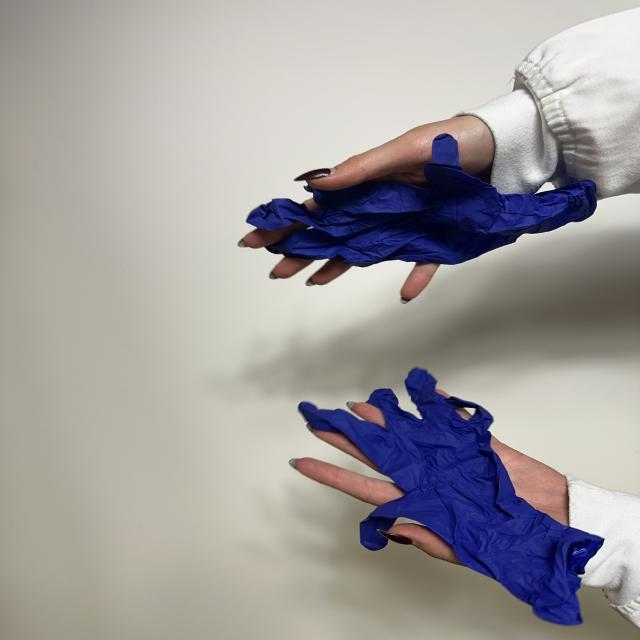glove_not_fitted: (291, 368, 603, 625), (243, 116, 596, 302)
